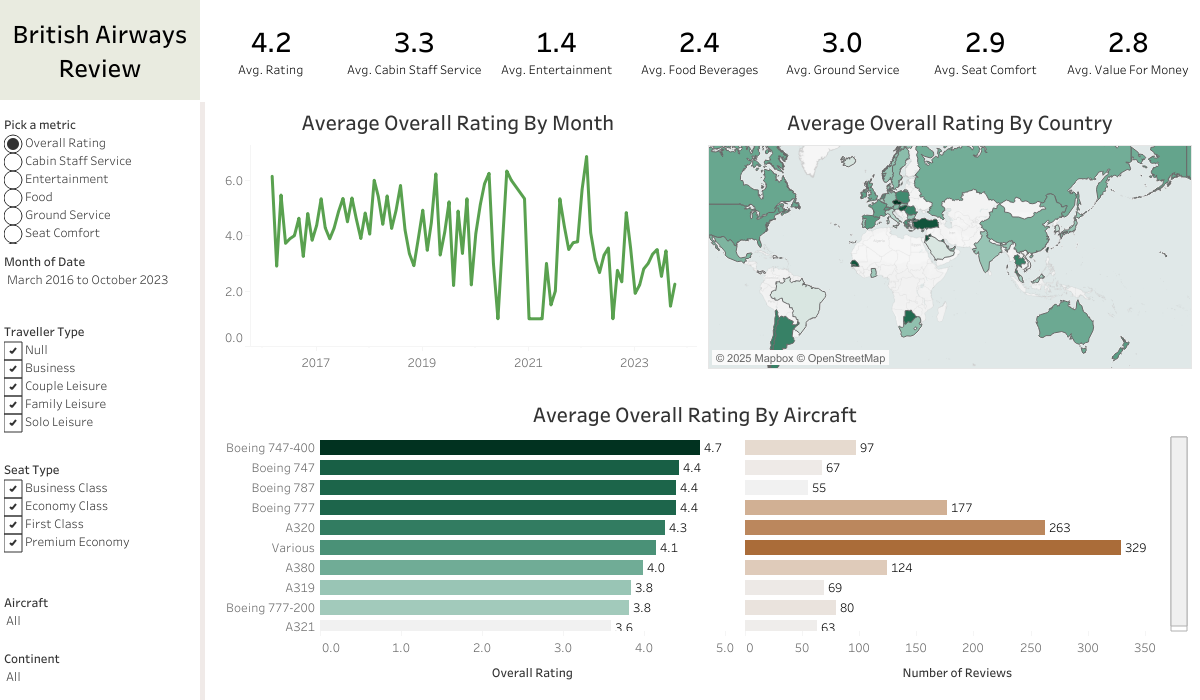

This screenshot's page, from the dashboard's own definition file:
{"tool":"tableau","page":{"name":"Dashboard 1","canvas":[1200,700],"ordinal":0},"visuals":[{"type":"text","box":[0,0,200,100]},{"type":"worksheet","title":"Summary","mark":"Automatic","box":[200,0,1000,100]},{"type":"worksheet","title":"Month","mark":"Automatic","rows":["Calculation_14144173944352807"],"cols":["date"],"box":[220,102,476,274]},{"type":"worksheet","title":"Map","mark":"Automatic","box":[708,102,484,267]},{"type":"parameter","param":"[Parameters].[Parameter 1]","box":[0,110,200,137.5]},{"type":"filter","title":"Map","param":"[federated.06lnv9w0m5s5ao17h76pf13iwhs3].[tmn:date:qk]","box":[0,247.5,200,70]},{"type":"filter","title":"Map","param":"[federated.06lnv9w0m5s5ao17h76pf13iwhs3].[none:traveller_type:nk]","box":[0,317.5,200,137.5]},{"type":"worksheet","title":"Aircraft","mark":"Automatic","cols":["Calculation_14144173944352807","ba_reviews.csv_14613B96745B4210B494E1DC5F613766"],"box":[220,394,968,294]},{"type":"filter","title":"Map","param":"[federated.06lnv9w0m5s5ao17h76pf13iwhs3].[none:seat_type:nk]","box":[0,455,200,133]},{"type":"filter","title":"Map","param":"[federated.06lnv9w0m5s5ao17h76pf13iwhs3].[none:aircraft:nk]","box":[0,588,200,56]},{"type":"filter","title":"Map","param":"[federated.06lnv9w0m5s5ao17h76pf13iwhs3].[none:Continent:nk]","box":[0,644,200,56]}]}

Visuals, with their boxes in screenshot pixels (x1, y1, x2, y2), scaled from the page's 1200x700 canvas onto the 1200x700 screenshot:
text: 0:0:200:100
"Summary" worksheet: 200:0:1199:100
"Month" worksheet: 220:102:696:376
"Map" worksheet: 708:102:1192:369
parameter: 0:110:200:248
"Map" filter: 0:248:200:318
"Map" filter: 0:318:200:455
"Aircraft" worksheet: 220:394:1188:688
"Map" filter: 0:455:200:588
"Map" filter: 0:588:200:644
"Map" filter: 0:644:200:699
